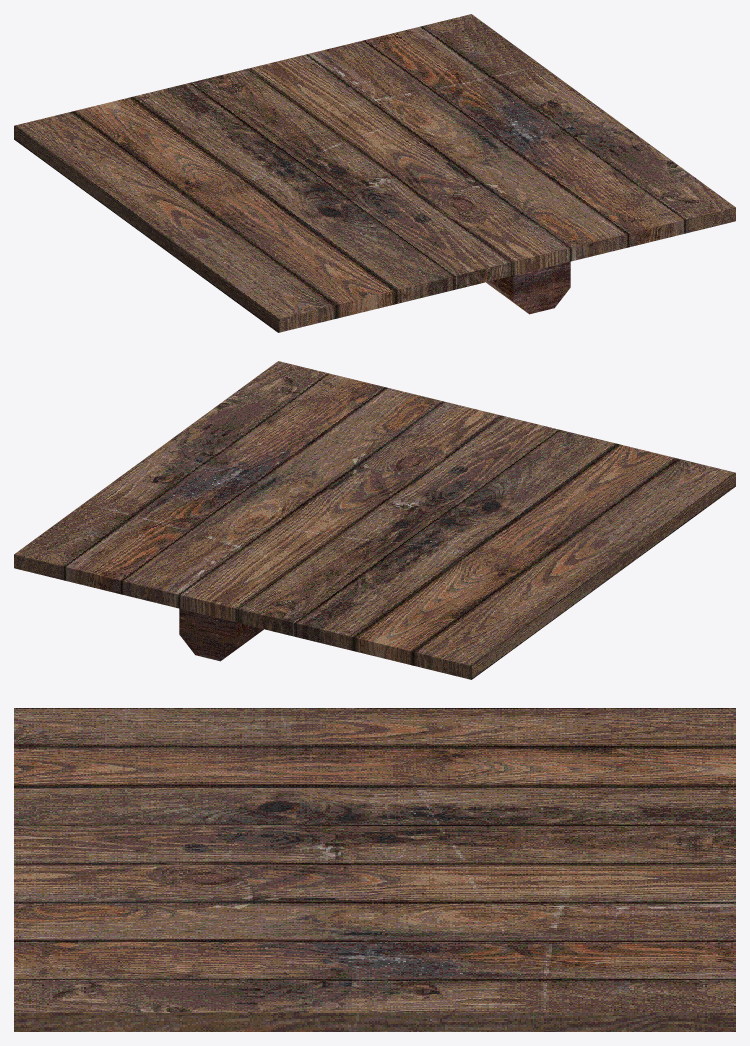
The model's file is ceiling-beamSE.glb.
3 views of the same model, one above another, from view 1: azimuth 30°, elevation 25°; view 2: azimuth 150°, elevation 25°; view 3: azimuth 270°, elevation 25° (orthographic). The views are drawn at different scales.
Visible parts, largest first — view 1: ceiling-beamSE.001; view 2: ceiling-beamSE.001; view 3: ceiling-beamSE.001.
Part boxes in pixels (x1,y1,x2,y2): ceiling-beamSE.001: (14, 14, 735, 332); ceiling-beamSE.001: (14, 361, 735, 679); ceiling-beamSE.001: (14, 708, 735, 1031).
Size of the model in its own units: 1.74 by 0.2046 by 1.74.
2 materials, 2 textured.
